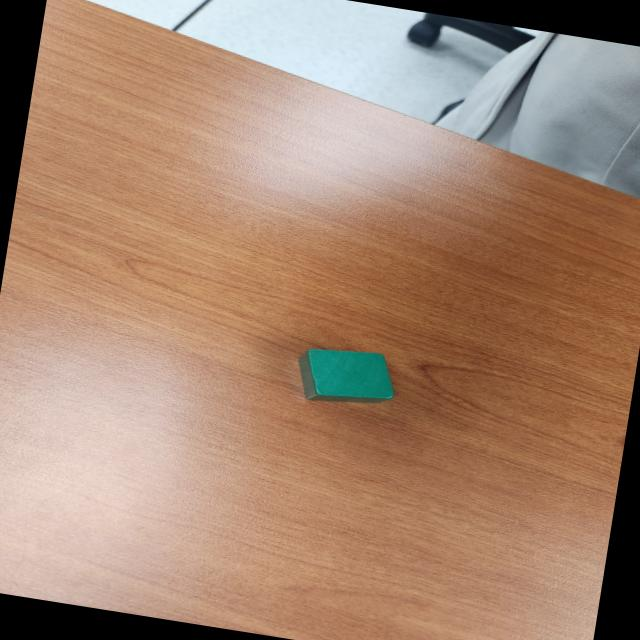green: (292, 341, 400, 412)
